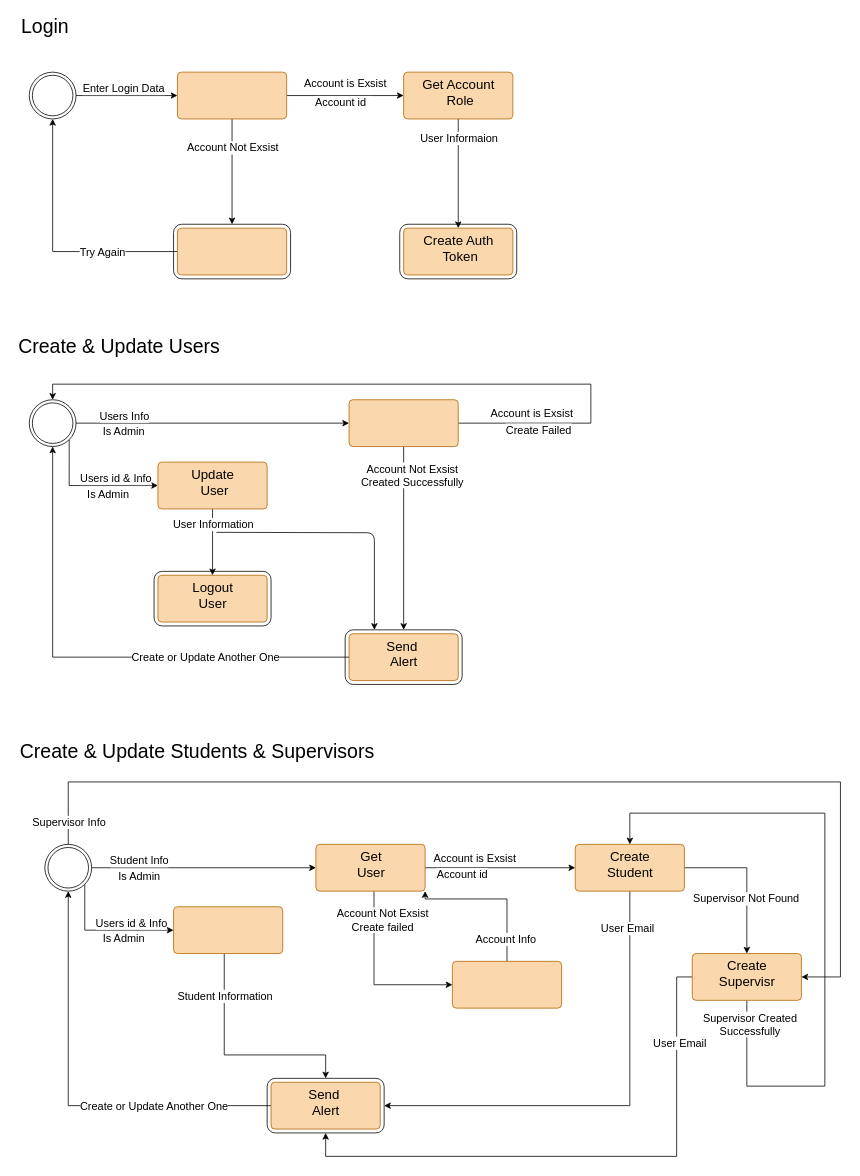
Image size: 860x1176. Some labels were removed from this diagram. The shapes that lost their labels are listed below. From the top down, each one's centre as x and y in pixels, then its label:
At (x=232, y=95): "Get Account Info".
At (x=232, y=251): "Failed To Login".
At (x=403, y=423): "Create User".
At (x=228, y=930): "Update Std or Sup".
At (x=507, y=984): "Create Account".
